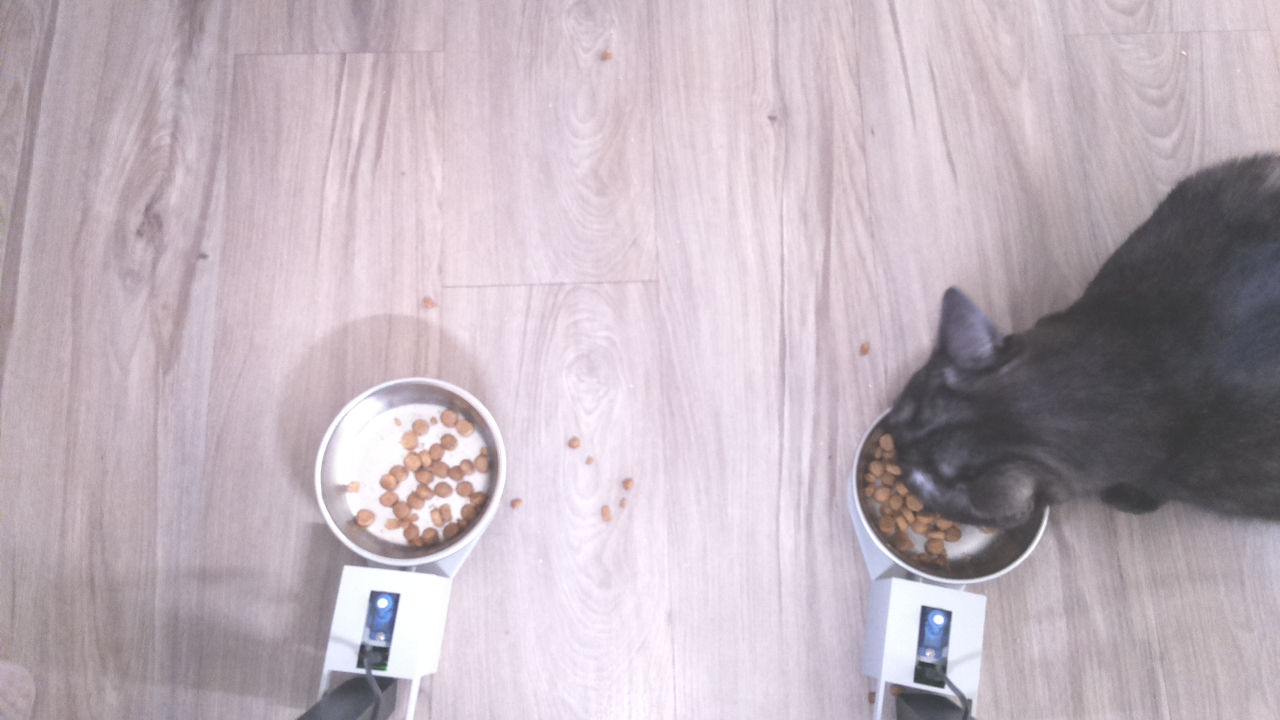open_bowl: (309, 370, 505, 565)
saki_eating: (844, 275, 1084, 594)
